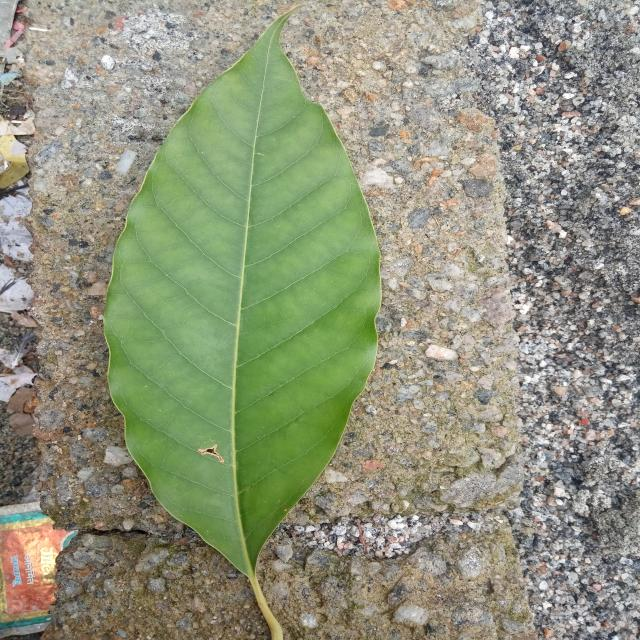coffee: (105, 14, 382, 640)
